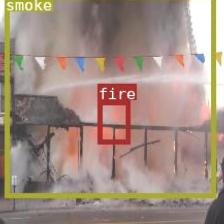fire: (96, 100, 129, 143)
smoke: (4, 0, 214, 197)
